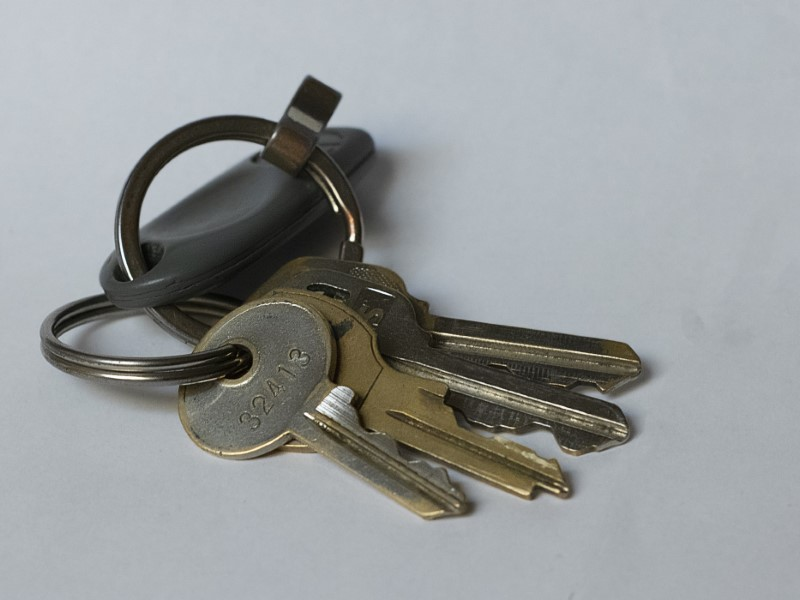carkey: (94, 109, 388, 310)
key: (170, 248, 649, 526)
